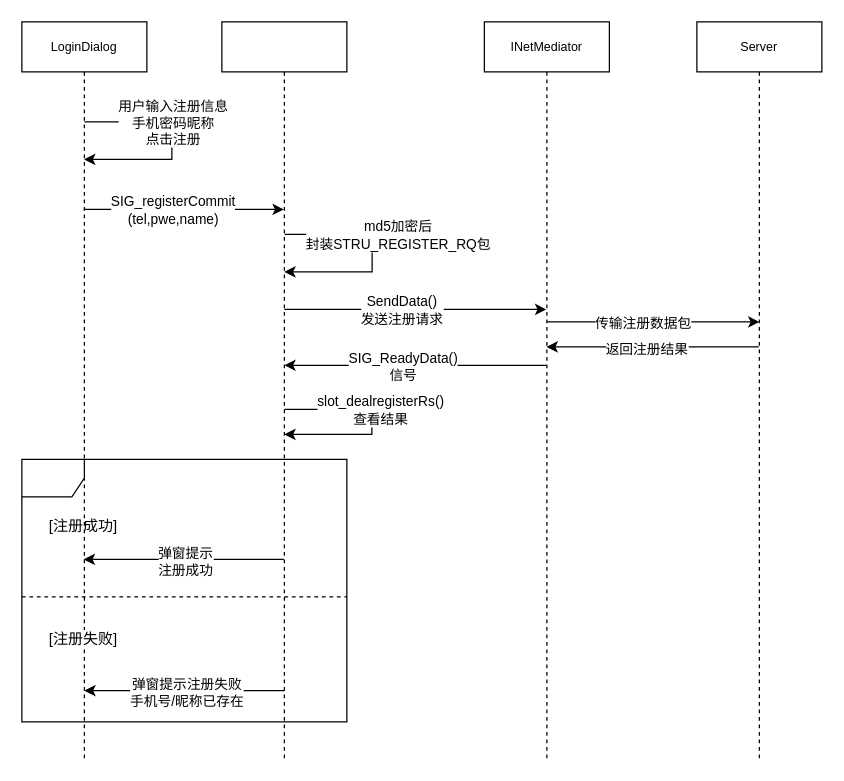
Some shapes in this 844 by 781 pixel diagram are drawn without their labels. Here are the shapes that lost their labels. From the top down, the box of each, then its label:
(221, 21, 347, 759): CKernel
(21, 458, 347, 722): alt
